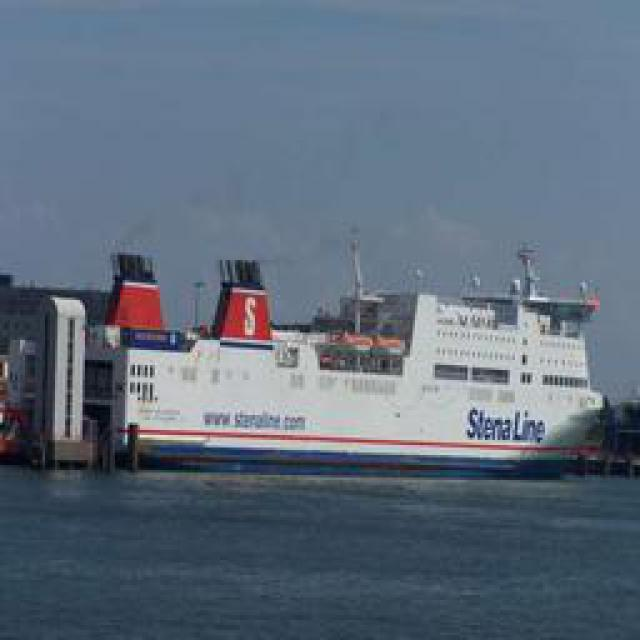Ship: (114, 243, 627, 478)
